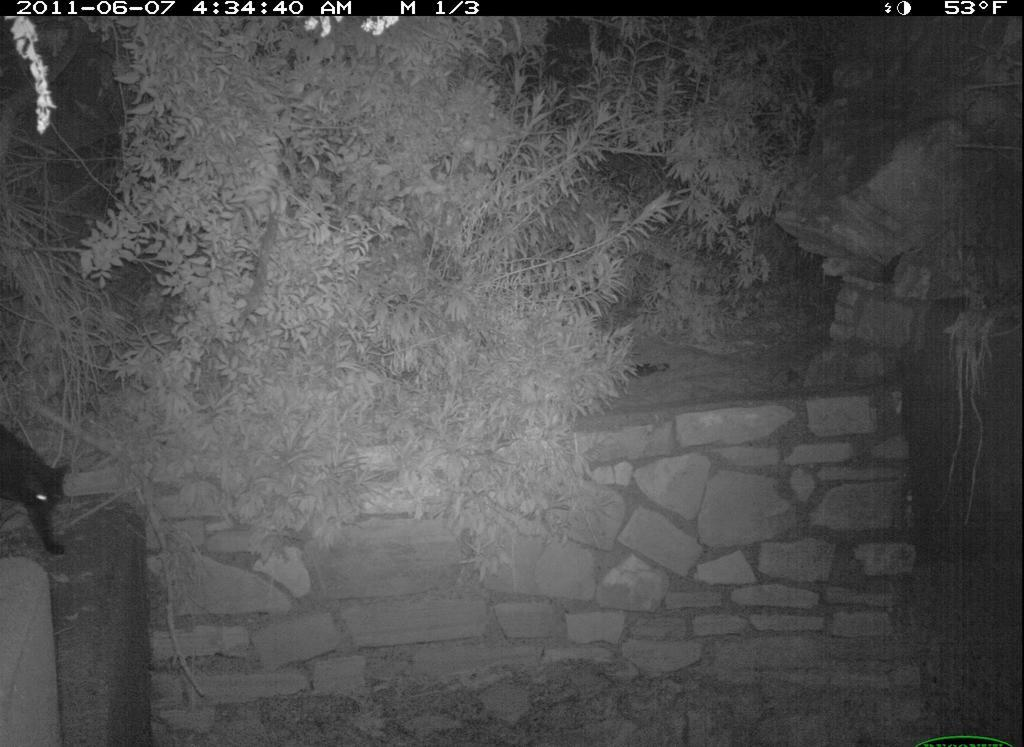cat: (4, 414, 81, 566)
